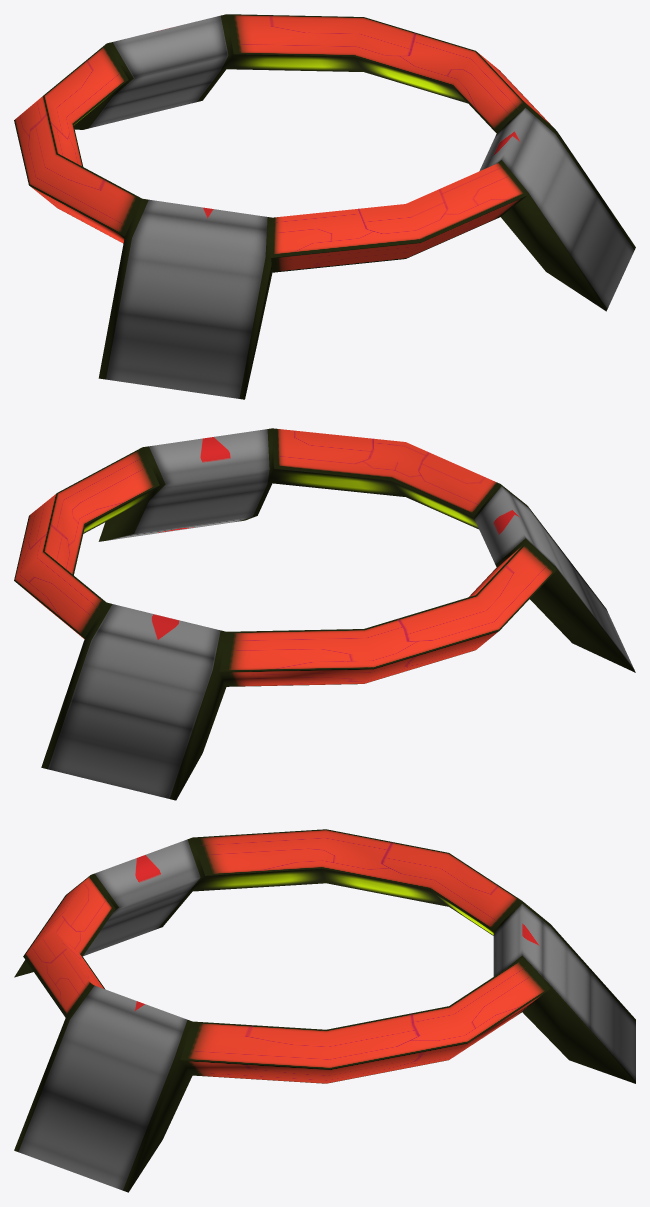
File: DashRing.fbx
3 renders of one model, top to bottom at view 1: azimuth 30°, elevation 25°; view 2: azimuth 150°, elevation 25°; view 3: azimuth 270°, elevation 25°, orthographic.
Visible parts, largest first — view 1: Torus_003; view 2: Torus_003; view 3: Torus_003.
Part boxes in pixels (left/top/right/bottom): Torus_003: left=14, top=14, right=635, bottom=399; Torus_003: left=14, top=428, right=635, bottom=800; Torus_003: left=14, top=829, right=635, bottom=1192.
Bounding box in the file's own units: 2.96 × 0.7223 × 3.02.
